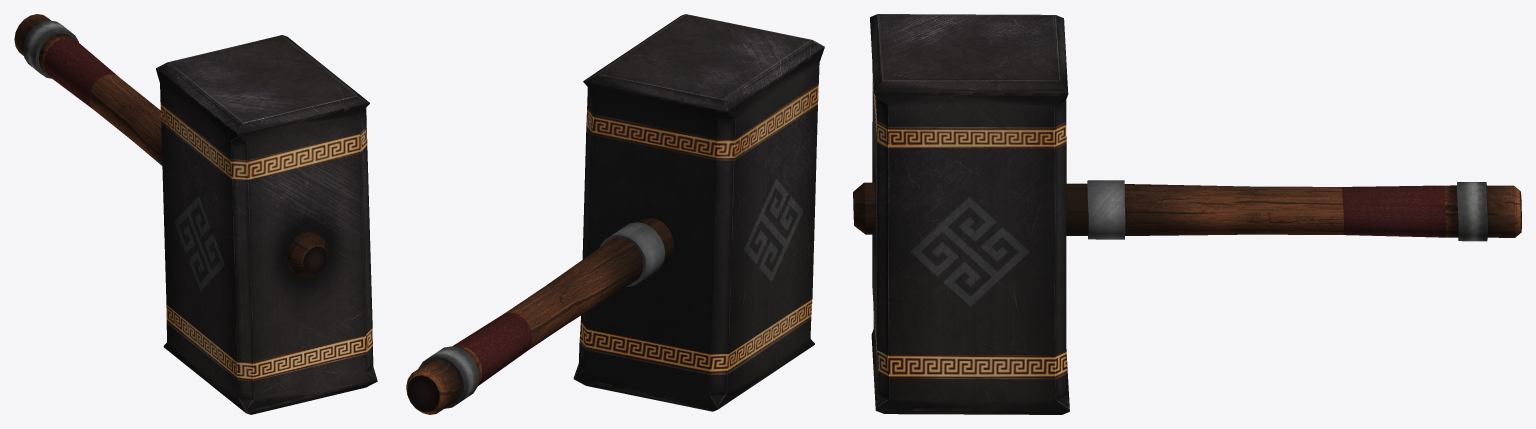
The model's file is Hammer.FBX.
The picture shows the model from 3 angles, left to right: view 1: azimuth 30°, elevation 25°; view 2: azimuth 150°, elevation 25°; view 3: azimuth 270°, elevation 25°; orthographic projection. The views are drawn at different scales.
Visible parts, largest first — view 1: Box001; view 2: Box001; view 3: Box001.
Boxes of the visible parts, box(x1,y1,x2,y2) form: Box001: box(14, 14, 377, 414); Box001: box(406, 14, 824, 414); Box001: box(853, 14, 1521, 414).
Size of the model in its own units: 24.13 by 46.26 by 84.2.
